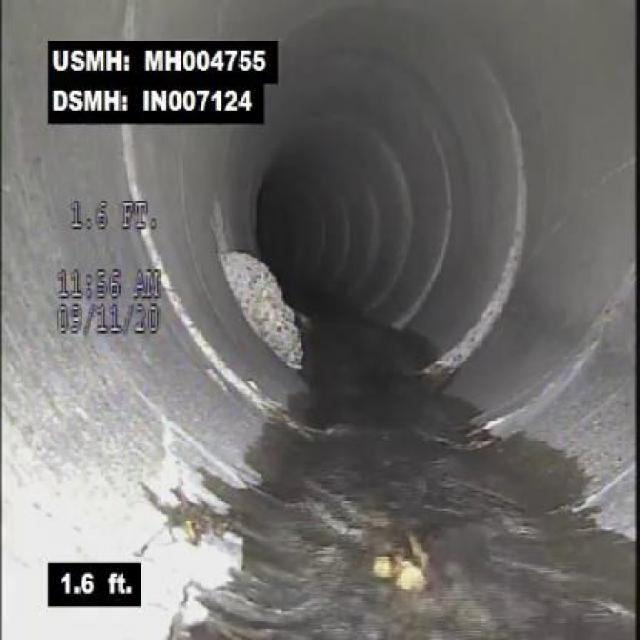Debris: (206, 220, 319, 372)
